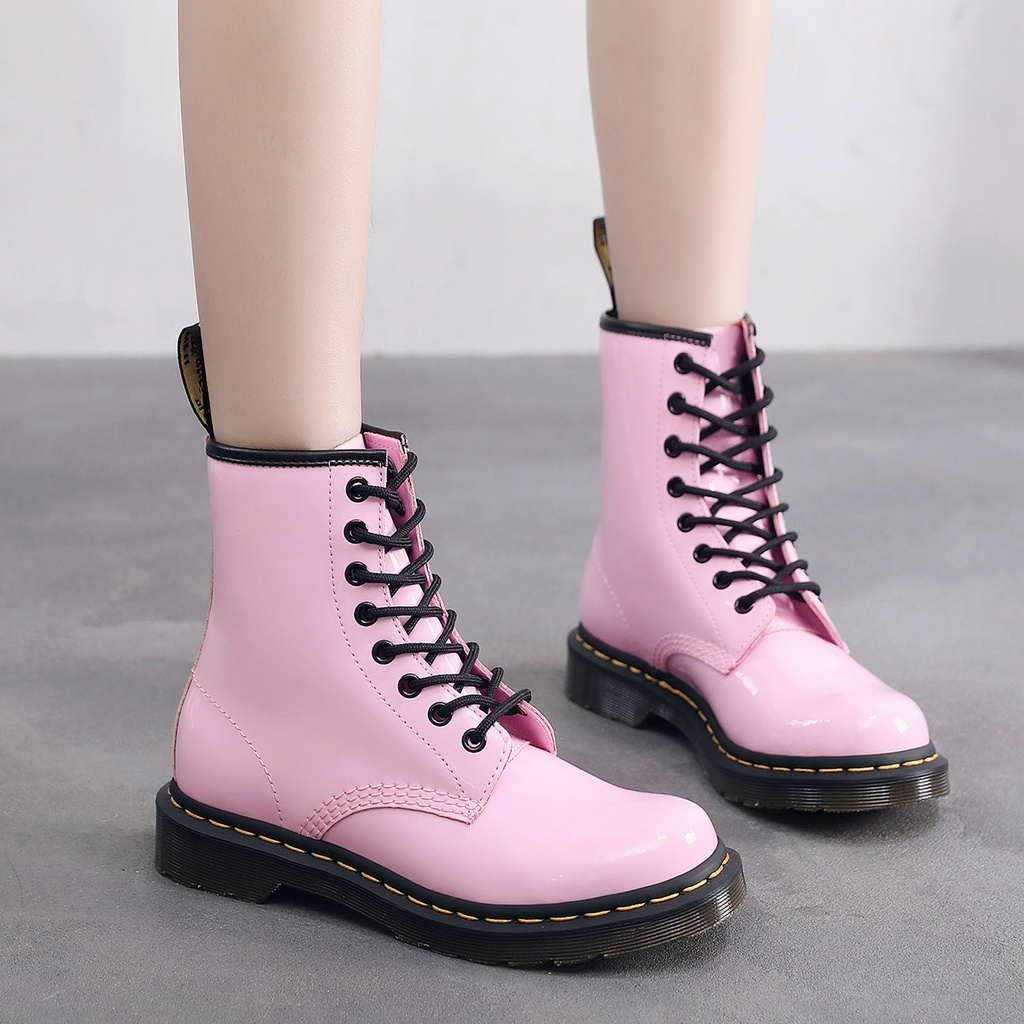boots: (148, 325, 752, 968), (569, 219, 950, 814)
